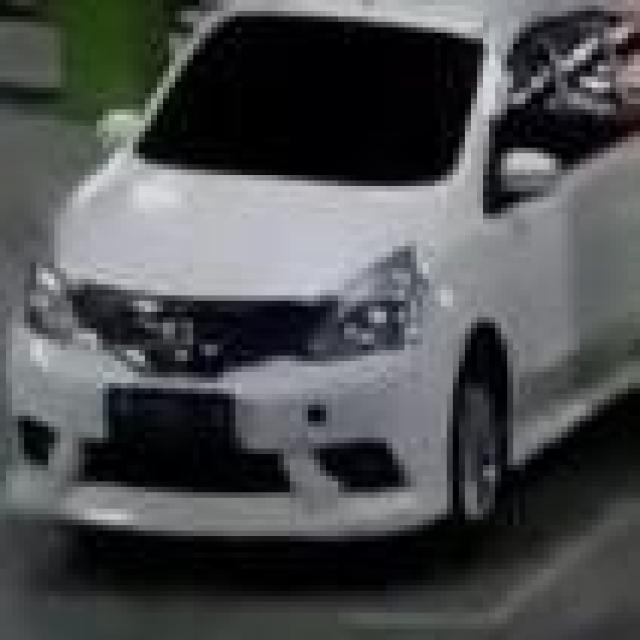Car: (54, 14, 623, 588)
